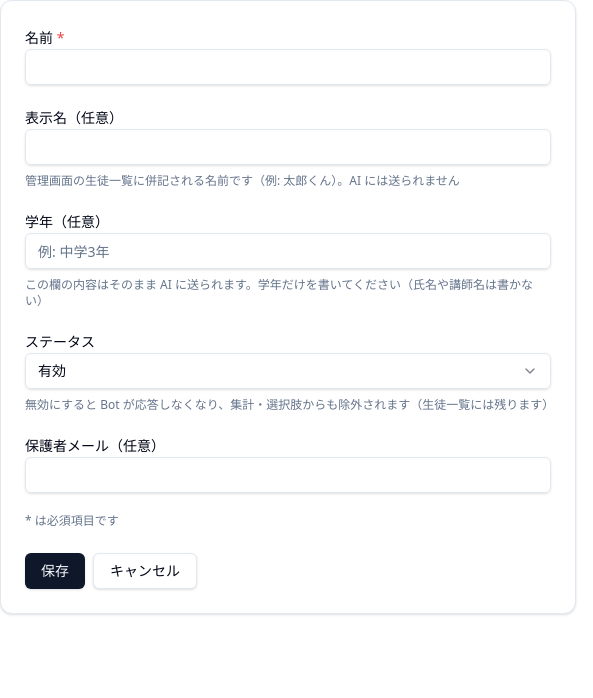
Test: PersonForm（H-9: 二重送信で二重登録させない） › 失敗時は再送信できる
The width and height of the screenshot is (593, 698).
Type "太郎" into the field labelled "名前 *" at {"x": 288, "y": 67}, box x1=25 y1=49 x2=551 y2=85
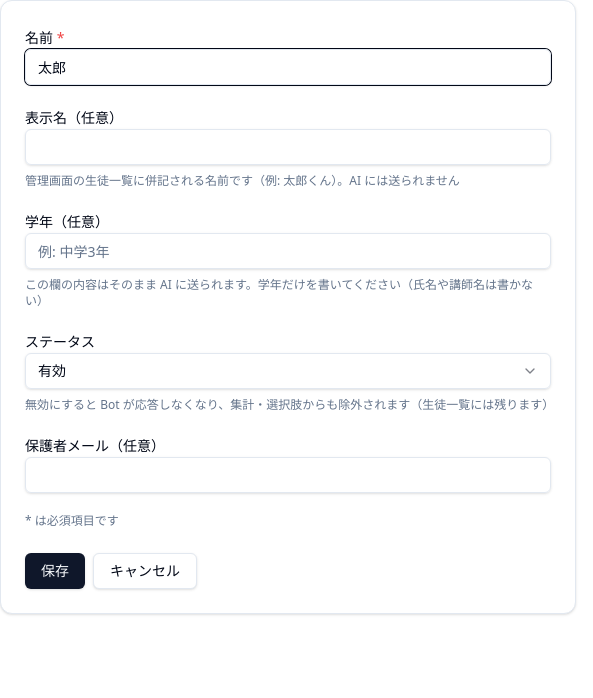
Click the button "保存" at {"x": 55, "y": 571}, box x1=25 y1=553 x2=85 y2=589
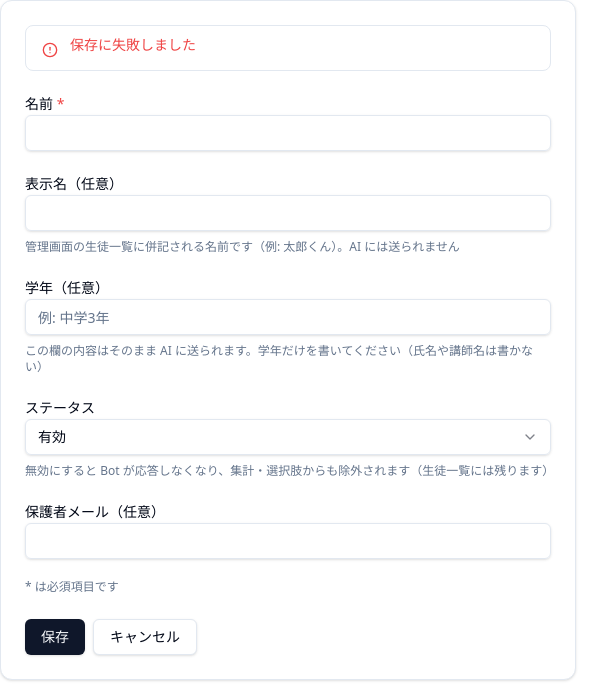
Check: the button "保存" is enabled, box x1=25 y1=619 x2=85 y2=655
Check: the text "保存に失敗しました" is shown, box x1=70 y1=35 x2=196 y2=54
